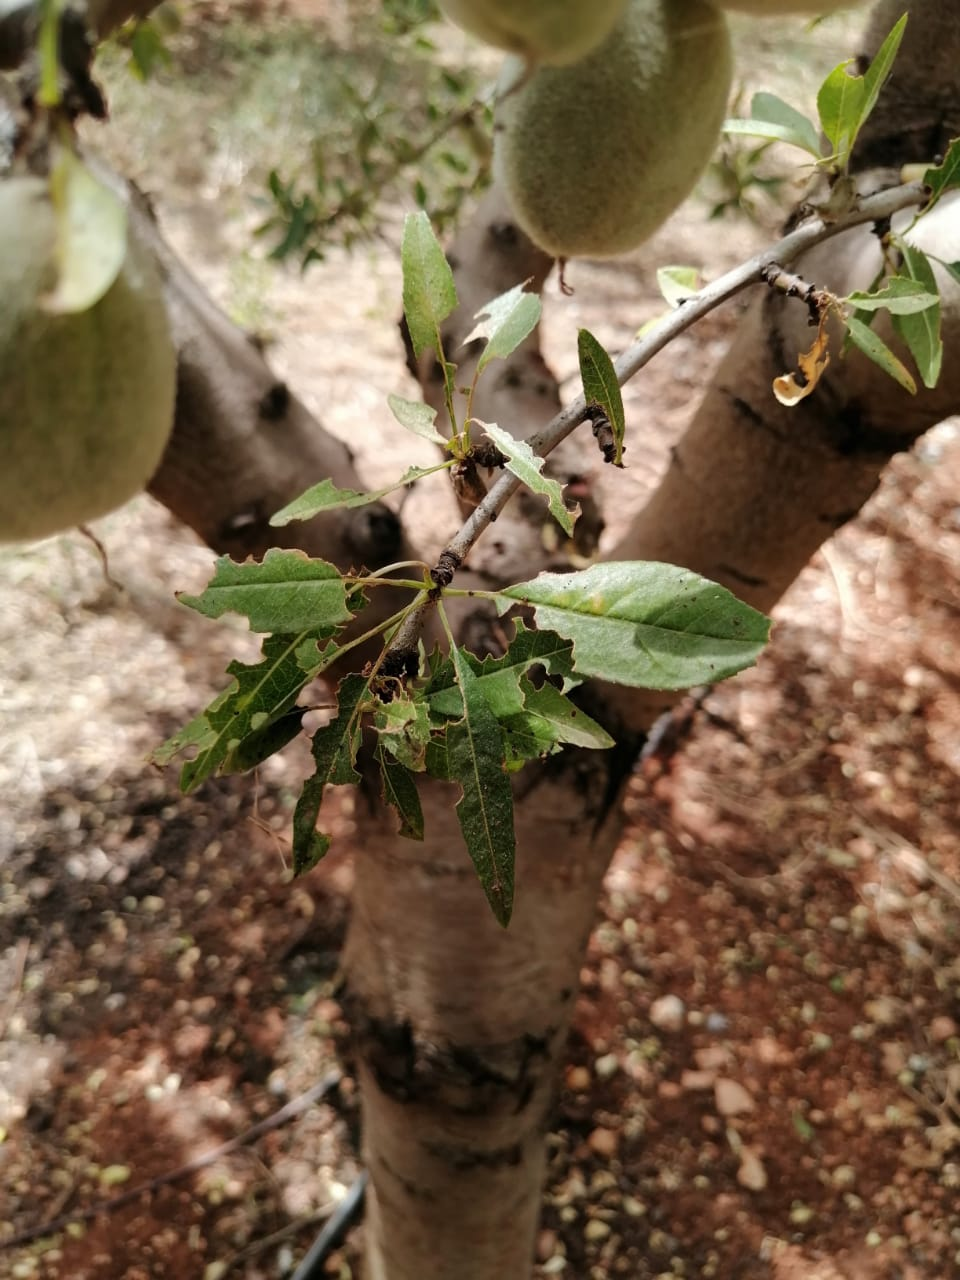othyorinques: (496, 557, 781, 691), (448, 642, 518, 926), (291, 667, 379, 885), (175, 544, 359, 637), (399, 206, 472, 413), (269, 471, 428, 526)
